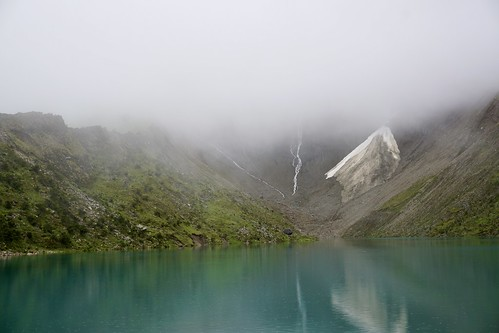mountain: (1, 100, 308, 246), (327, 20, 499, 236)
river: (1, 244, 497, 333)
